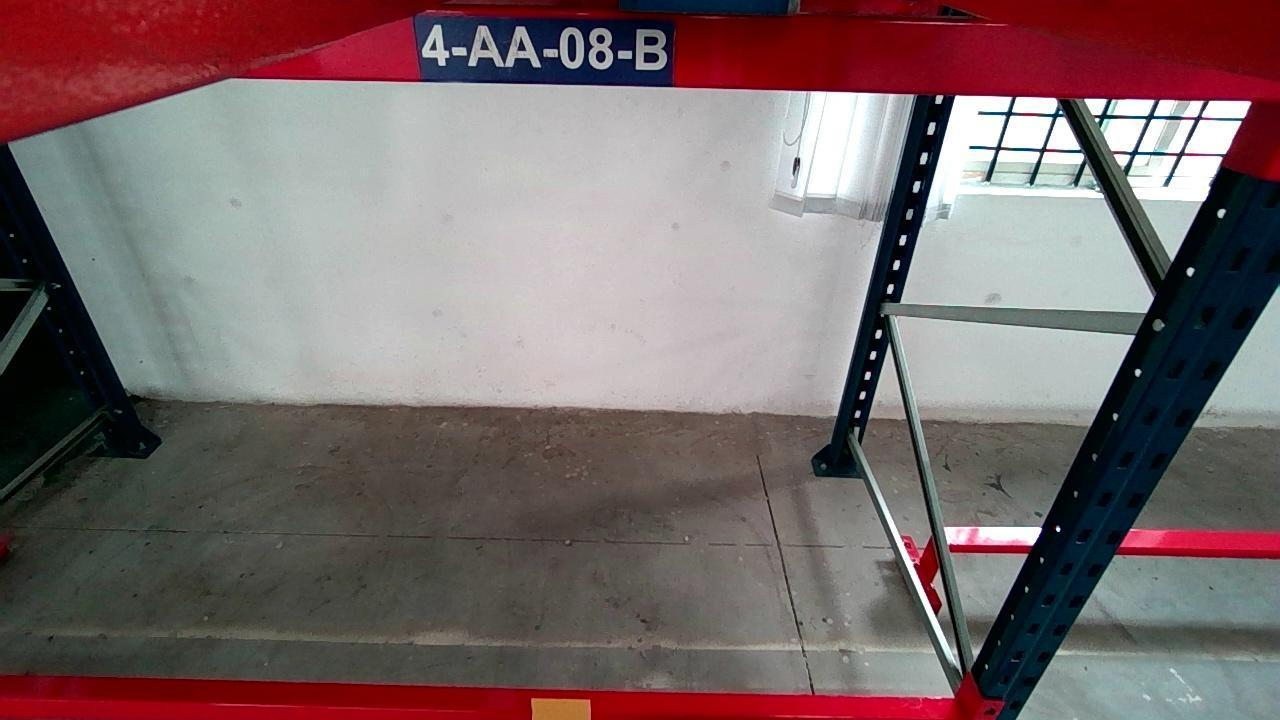h_rack: (260, 9, 1279, 97)
